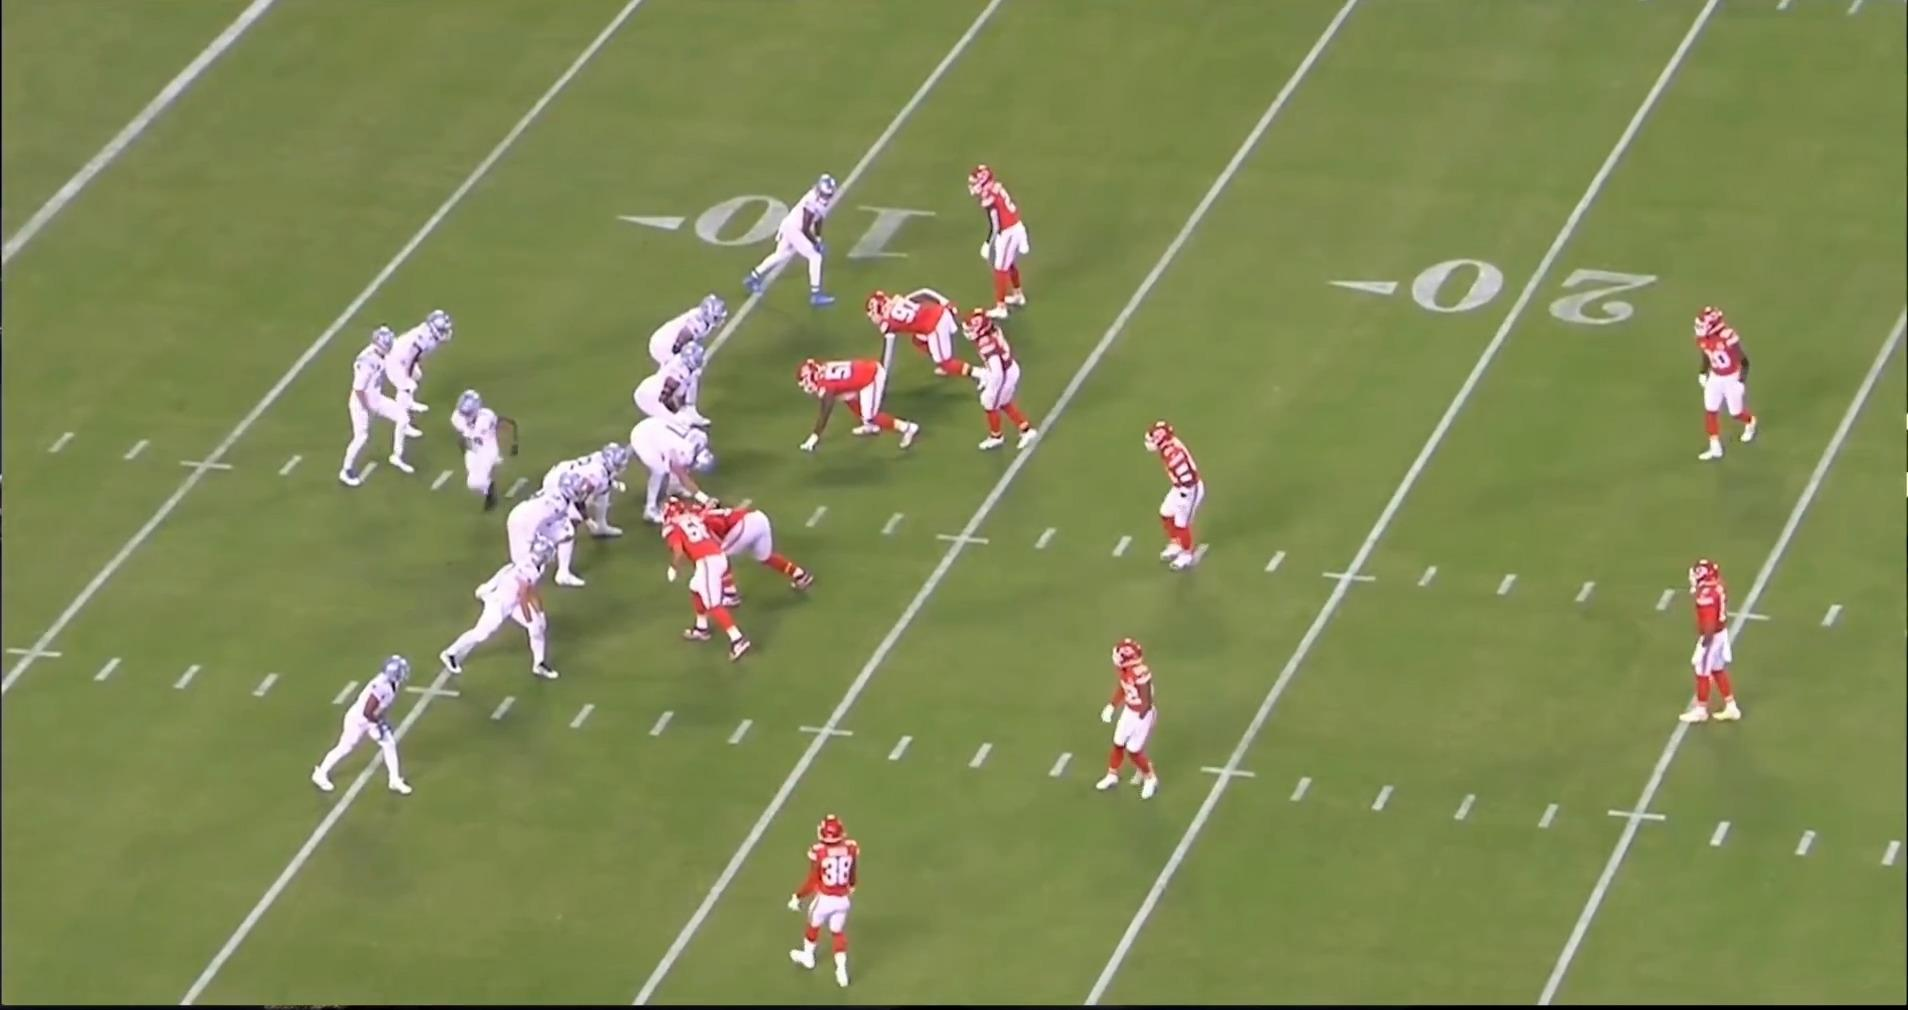player: (443, 541, 573, 689), (302, 648, 416, 802), (658, 500, 756, 664), (677, 497, 822, 602), (739, 168, 848, 307), (327, 326, 418, 488), (784, 805, 865, 984), (481, 468, 589, 601), (1678, 553, 1752, 729), (799, 356, 929, 455), (1688, 301, 1764, 467), (954, 309, 1037, 457), (1086, 629, 1158, 798), (863, 283, 983, 382), (969, 156, 1039, 319), (652, 291, 737, 423), (634, 407, 727, 527), (536, 440, 629, 559), (1143, 420, 1210, 578), (441, 386, 511, 517), (394, 306, 460, 430), (631, 339, 716, 431)
